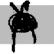not correct: (7, 0, 39, 53)
